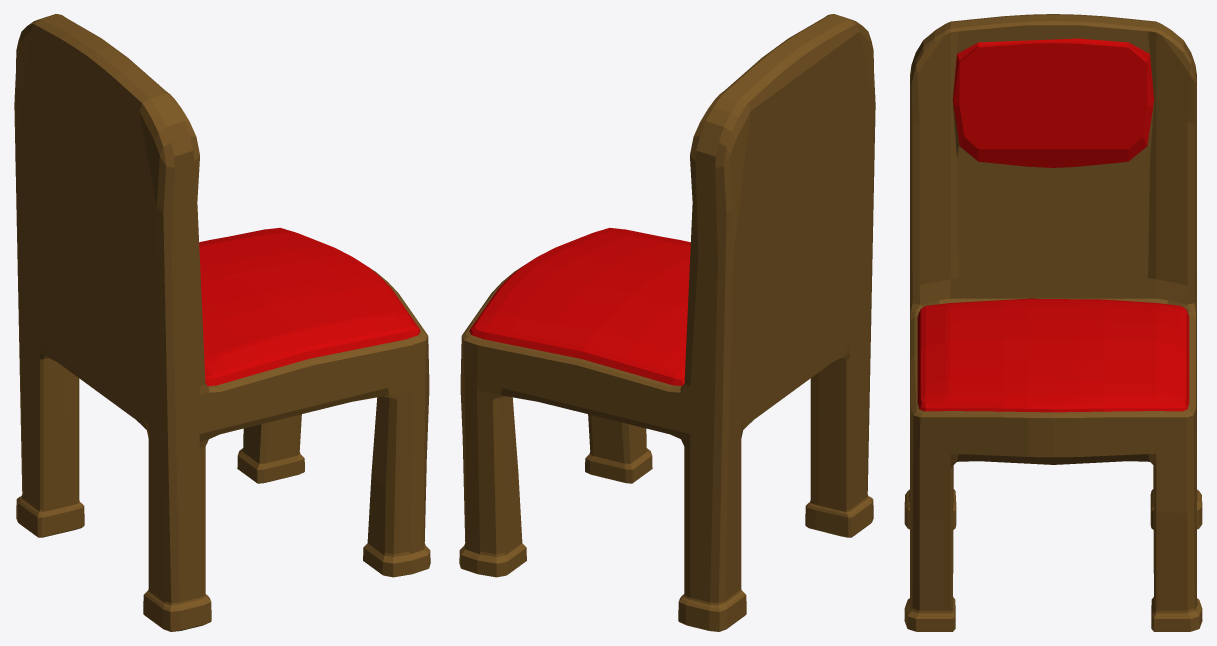
Rendered from Low_Back-Chair.fbx.
3 renders of one model, left to right at view 1: azimuth 30°, elevation 25°; view 2: azimuth 150°, elevation 25°; view 3: azimuth 270°, elevation 25°, orthographic. The views are drawn at different scales.
Parts seen in each view (by area): view 1: Cube.011; view 2: Cube.011; view 3: Cube.011.
Part boxes in pixels (x1,y1,x2,y2): Cube.011: (14, 14, 430, 631); Cube.011: (459, 14, 875, 631); Cube.011: (904, 14, 1202, 631).
Bounding box in the file's own units: 105 × 181 × 98.06.
